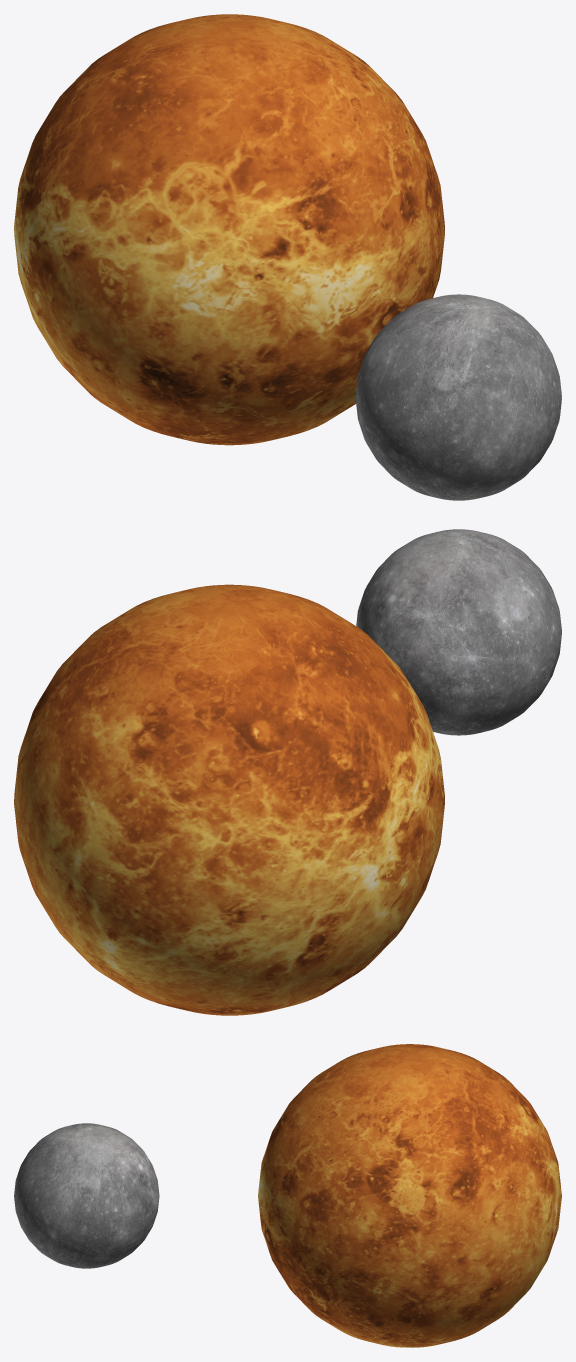
Rendered from меркурійвенера.glb.
3 renders of one model, top to bottom at view 1: azimuth 30°, elevation 25°; view 2: azimuth 150°, elevation 25°; view 3: azimuth 270°, elevation 25°, orthographic. The views are drawn at different scales.
Visible parts, largest first — view 1: Sphere.001, Sphere; view 2: Sphere.001, Sphere; view 3: Sphere.001, Sphere.
Boxes of the visible parts, x1,y1,x2,y2 form: Sphere.001: [14, 14, 444, 445]; Sphere: [355, 294, 561, 500]; Sphere.001: [14, 584, 444, 1015]; Sphere: [356, 529, 561, 735]; Sphere.001: [258, 1044, 561, 1347]; Sphere: [14, 1123, 159, 1268].
Bounding box in the file's own units: 4.17 × 4.18 × 7.53.
Materials: 2 (2 with a texture image).
